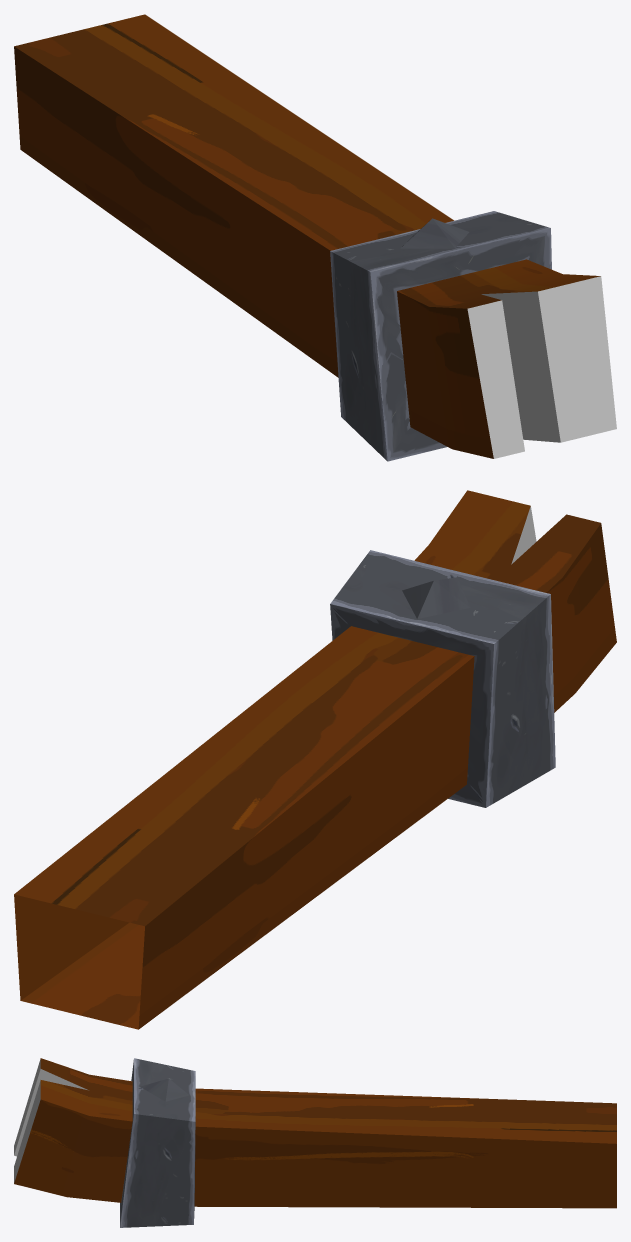
The model's file is SM_BLD_beam_small_v03_02.fbx.
3 renders of one model, top to bottom at view 1: azimuth 30°, elevation 25°; view 2: azimuth 150°, elevation 25°; view 3: azimuth 270°, elevation 25°, orthographic. The views are drawn at different scales.
Parts seen in each view (by area): view 1: SM_BLD_beam_small_v03_02; view 2: SM_BLD_beam_small_v03_02; view 3: SM_BLD_beam_small_v03_02.
Part boxes in pixels (bbox=[...]): SM_BLD_beam_small_v03_02: bbox=[14, 14, 616, 461]; SM_BLD_beam_small_v03_02: bbox=[14, 490, 616, 1029]; SM_BLD_beam_small_v03_02: bbox=[14, 1058, 616, 1227].
Bounding box in the file's own units: 66.08 × 68.38 × 302.
